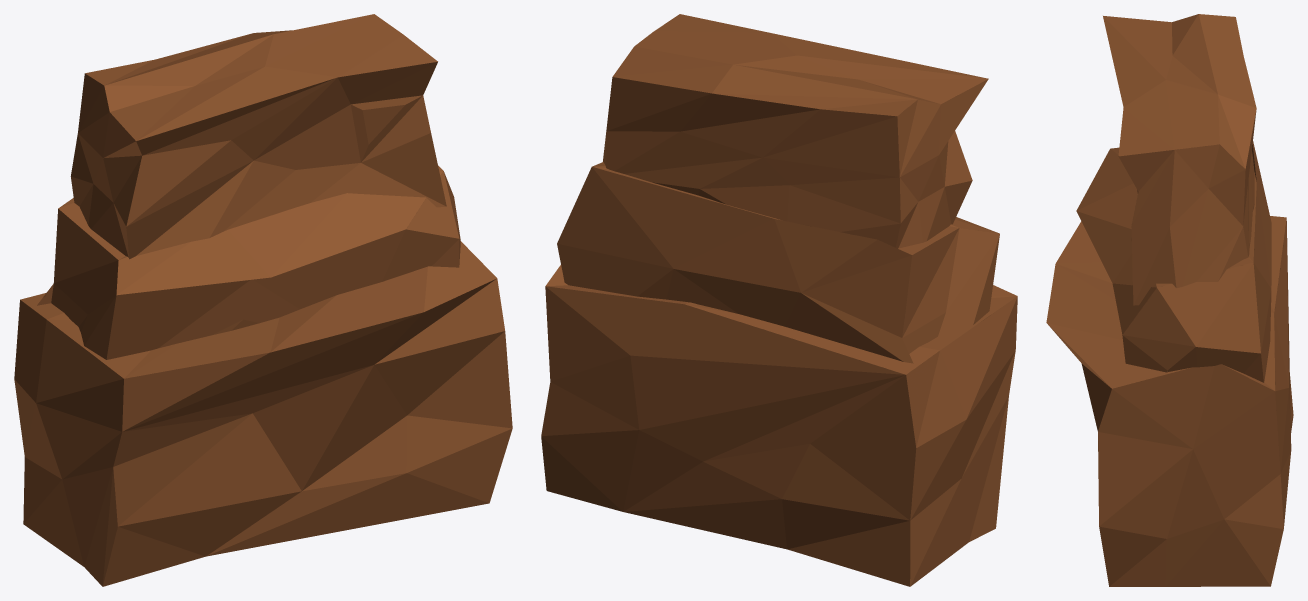
The model's file is CUPIC_CLIFF.gltf.
The picture shows the model from 3 angles, left to right: view 1: azimuth 30°, elevation 25°; view 2: azimuth 150°, elevation 25°; view 3: azimuth 270°, elevation 25°; orthographic projection. The views are drawn at different scales.
Parts seen in each view (by area): view 1: node-0; view 2: node-0; view 3: node-0.
Part boxes in pixels (x1=…): node-0: x1=14, y1=14, x2=512, y2=586; node-0: x1=541, y1=14, x2=1017, y2=586; node-0: x1=1046, y1=14, x2=1293, y2=586.
Bounding box in the file's own units: 1354 × 1469 × 769.
1 material, 1 textured.
